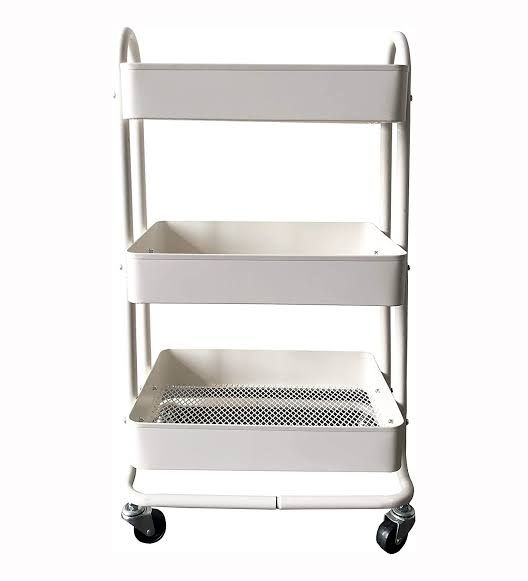Carts: (116, 26, 417, 554)
